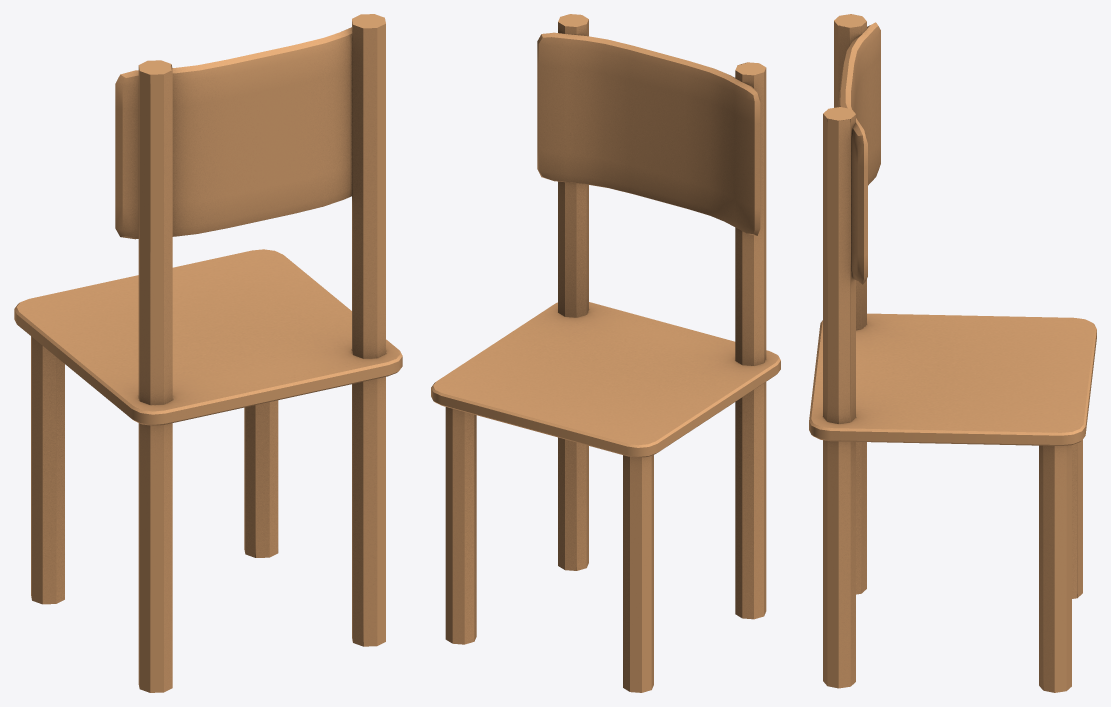
The model's file is chair_2.glb.
3 renders of one model, left to right at view 1: azimuth 30°, elevation 25°; view 2: azimuth 150°, elevation 25°; view 3: azimuth 270°, elevation 25°, orthographic. The views are drawn at different scales.
Visible parts, largest first — view 1: Plane; view 2: Plane; view 3: Plane.
Part boxes in pixels (x1=…): Plane: x1=14, y1=14, x2=402, y2=692; Plane: x1=431, y1=14, x2=780, y2=692; Plane: x1=809, y1=14, x2=1096, y2=692.
Size of the model in its own units: 2.08 by 4.52 by 2.08.
1 material, 1 textured.
